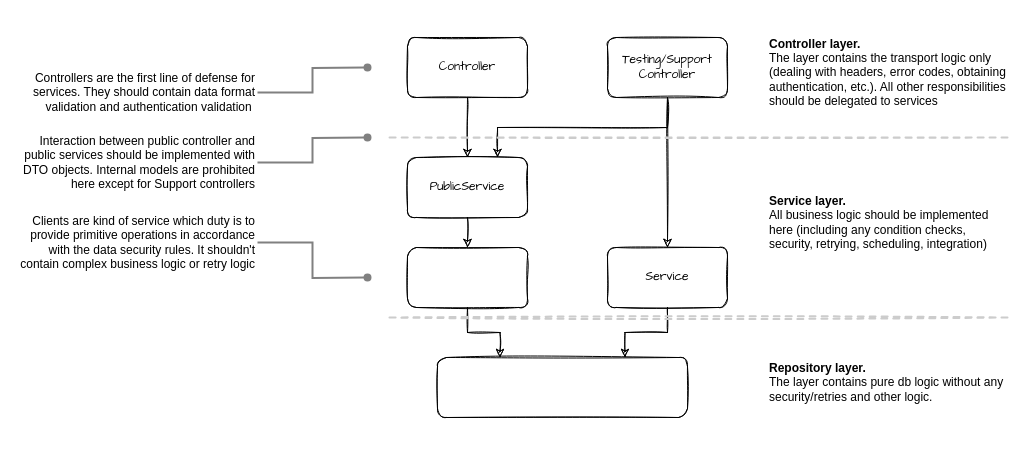
The diagram is 1026 pixels wide and 454 high, and some of its shapes have lost their labels. The centre of each missing label's shape, as x and y in pixels:
"PublicClient" goes at point 467,277.
"Repository" goes at point 562,387.
